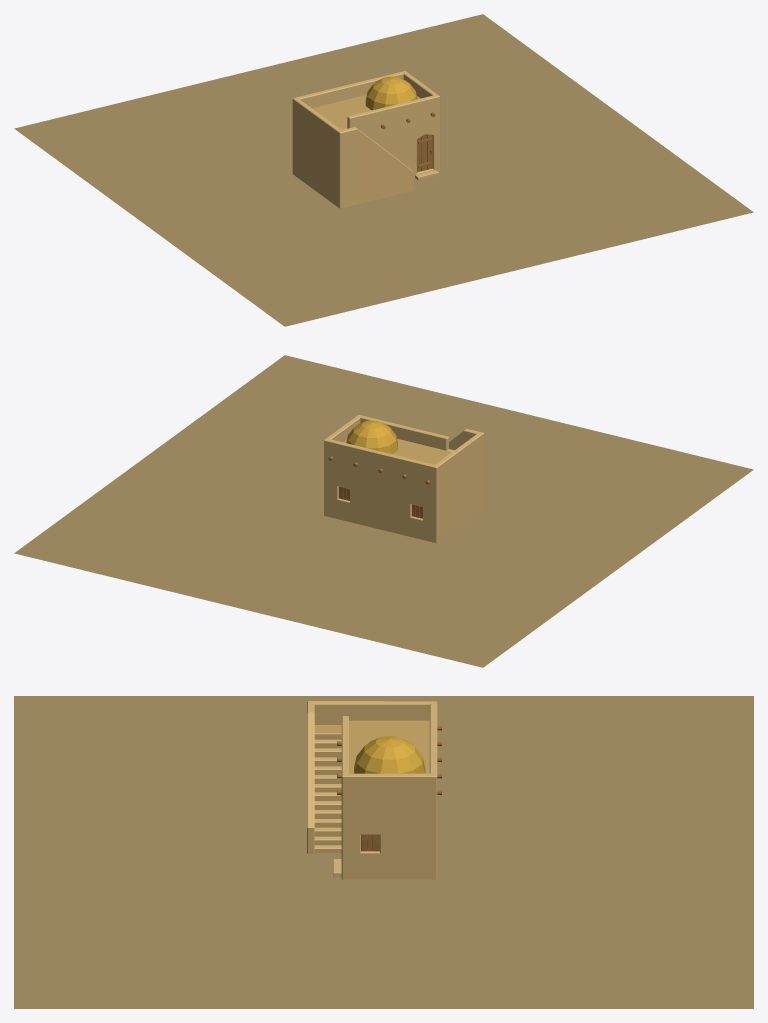
Rendered from Tile 40_Combined.fbx.
The picture shows the model from 3 angles, top to bottom: view 1: azimuth 30°, elevation 25°; view 2: azimuth 150°, elevation 25°; view 3: azimuth 270°, elevation 25°; orthographic projection. The views are drawn at different scales.
Visible parts, largest first — view 1: MeshBaker_mesh_mesh; view 2: MeshBaker_mesh_mesh; view 3: MeshBaker_mesh_mesh.
Part boxes in pixels (x1,y1,x2,y2): MeshBaker_mesh_mesh: (14,14,753,326); MeshBaker_mesh_mesh: (14,355,753,667); MeshBaker_mesh_mesh: (14,696,753,1008).
Bounding box in the file's own units: 3000 × 536 × 3000.
